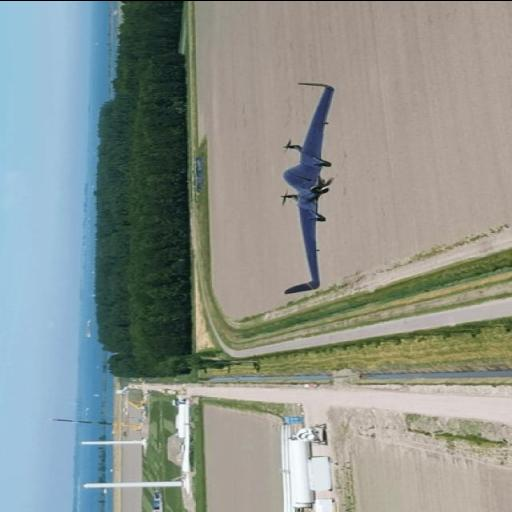uav: (251, 62, 385, 318)
